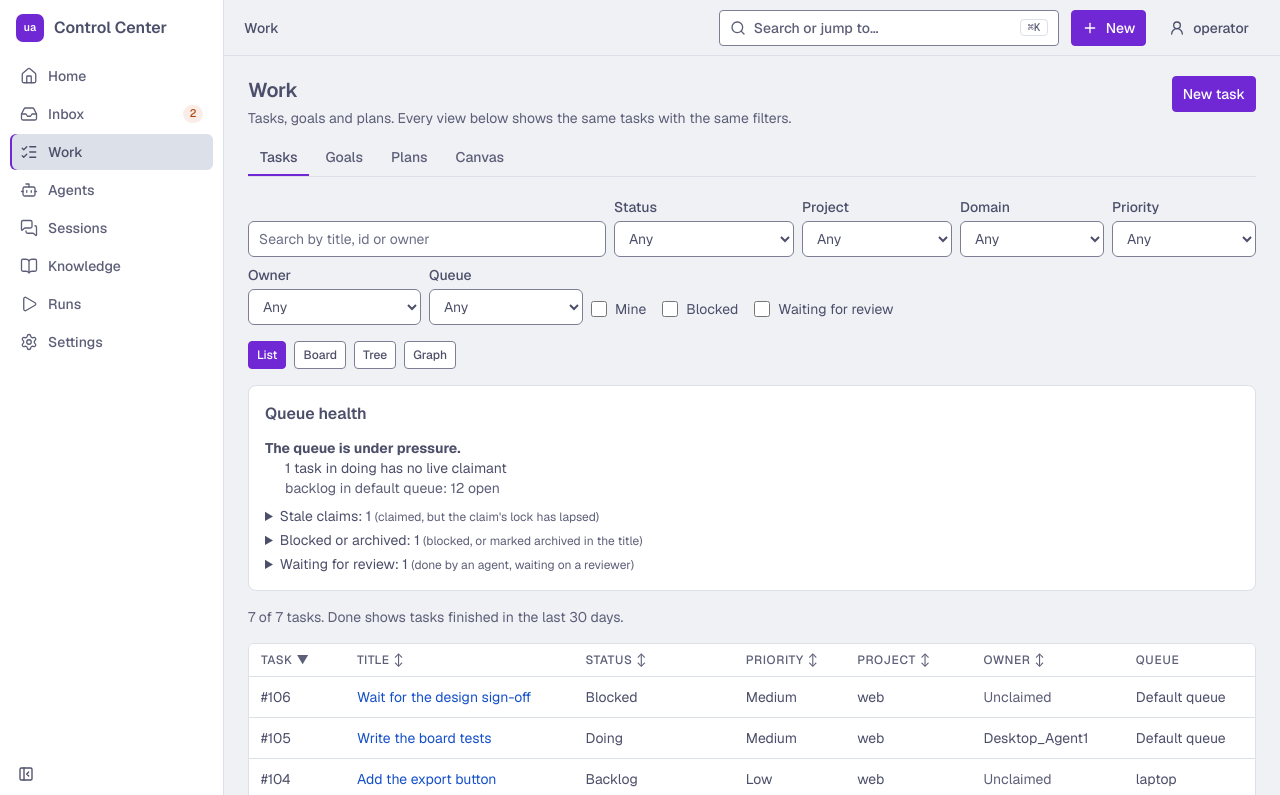
Scenario: work: task set › shows the queue's health buckets and back-pressure
The image size is (1280, 795).
Expected: the heading "Blocked or archived: 1" is shown, [280,531,643,549]
Expected: the list item "1 task in doing has no live claimant" is shown, [285,459,507,477]
Click the heading "Stale claims: 1 (claimed, but the claim's lock has lapsed)" at (439, 516), box [280,507,599,525]
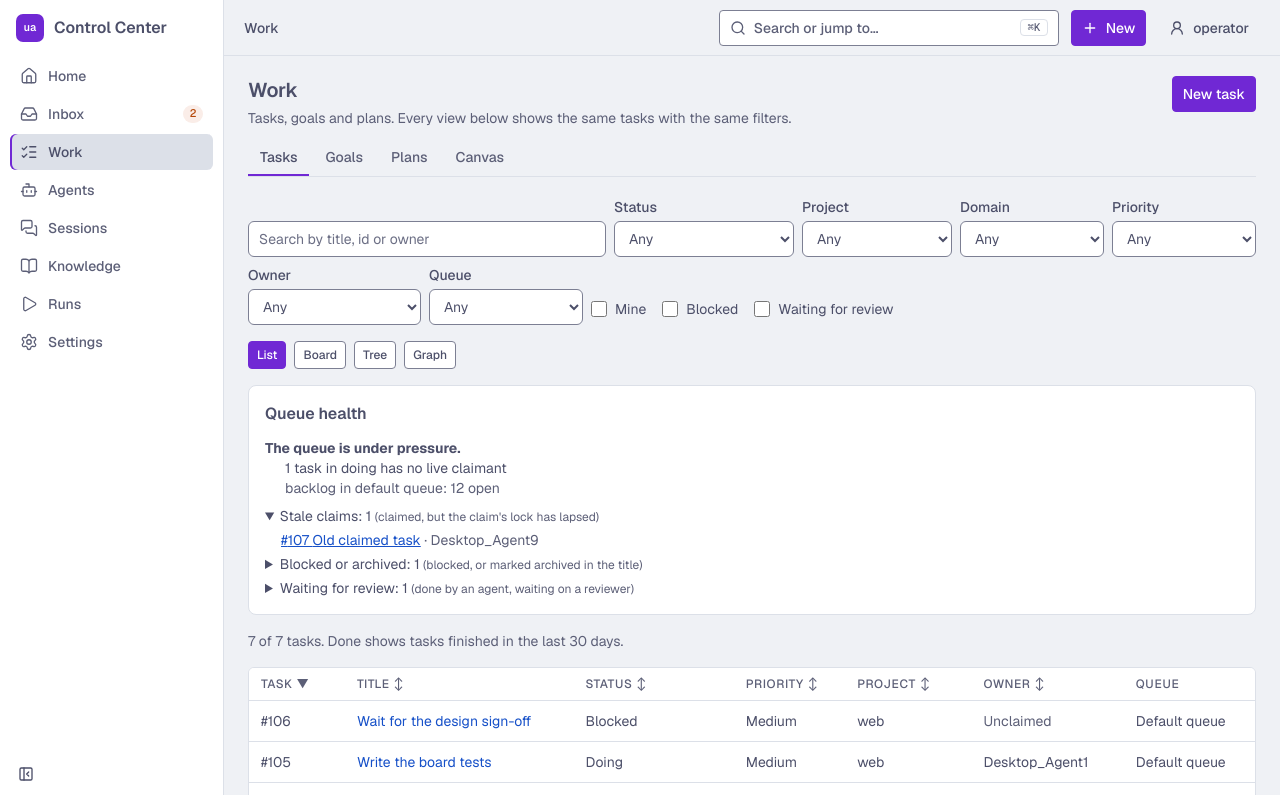
Expected: the link "#107 Old claimed task" is shown, [281,531,421,549]
